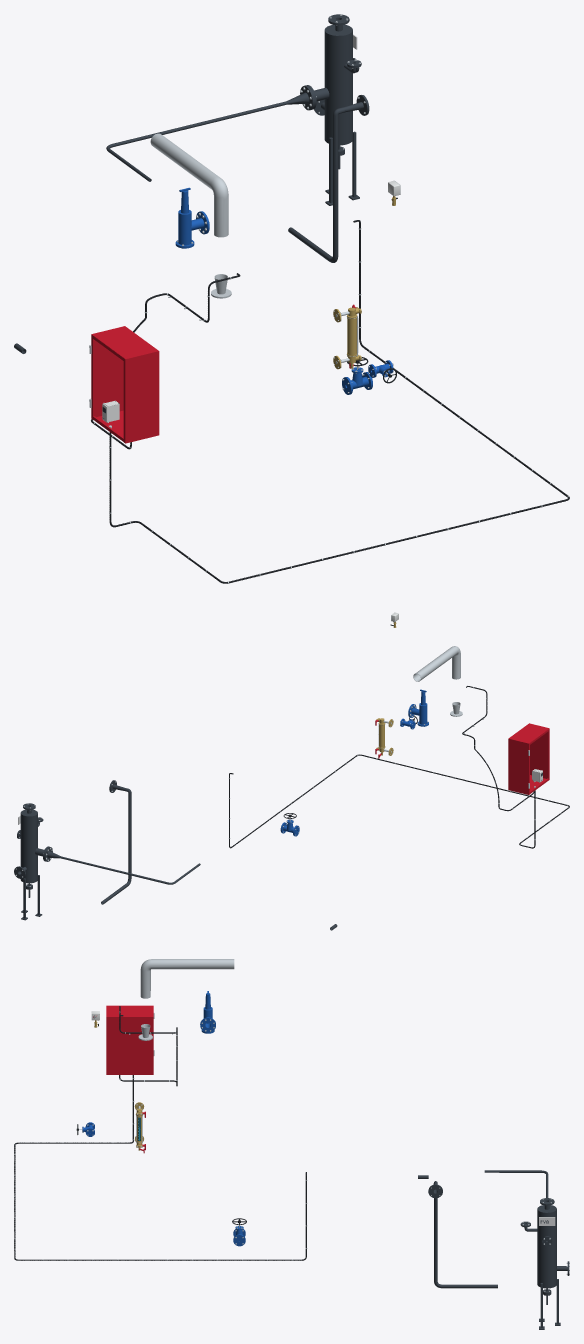
Rendered from s4000-6-iXs1sSi3.glb.
3 renders of one model, top to bottom at view 1: azimuth 30°, elevation 25°; view 2: azimuth 150°, elevation 25°; view 3: azimuth 270°, elevation 25°, orthographic. The views are drawn at different scales.
Visible parts, largest first — view 1: control_cabinet / control_cabinet_0.npz, separator_fv8 / dark, wiring_pump_2 / black, bottom_to_bdv / dark, steam_rise / steel, tds_to_fv / dark, safety_2 / blue, sight_glasses_2 / sight_glasses_2_0.npz; view 2: control_cabinet / control_cabinet_0.npz, separator_fv8 / dark, wiring_pump_2 / black, bottom_to_bdv / dark, tds_to_fv / dark, steam_rise / steel, safety_2 / blue; view 3: control_cabinet / control_cabinet_0.npz, separator_fv8 / dark, wiring_pump_2 / black, steam_rise / steel, bottom_to_bdv / dark.
Part boxes in pixels (x1,y1,x2,y2): control_cabinet / control_cabinet_0.npz: (89,326,159,443); separator_fv8 / dark: (305,14,361,205); wiring_pump_2 / black: (109,220,569,583); bottom_to_bdv / dark: (288,95,369,262); steam_rise / steel: (177,153,228,237); tds_to_fv / dark: (106,85,314,181); safety_2 / blue: (175,187,209,248); sight_glasses_2 / sight_glasses_2_0.npz: (333,304,361,369); control_cabinet / control_cabinet_0.npz: (508,723,549,794); separator_fv8 / dark: (14,803,48,920); wiring_pump_2 / black: (229,754,569,848); bottom_to_bdv / dark: (101,780,131,904); tds_to_fv / dark: (44,846,200,884); steam_rise / steel: (432,646,460,679); safety_2 / blue: (408,689,428,726); control_cabinet / control_cabinet_0.npz: (106,1005,154,1074); separator_fv8 / dark: (520,1198,569,1329); wiring_pump_2 / black: (14,1075,306,1260); steam_rise / steel: (140,959,197,998); bottom_to_bdv / dark: (428,1181,497,1288).
Size of the model in its own units: 4.96 by 2.82 by 6.24.
